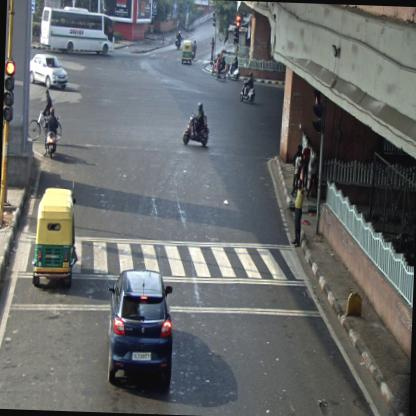bus: (40, 6, 116, 56)
car: (104, 268, 175, 388), (30, 52, 70, 92)
motorcycle: (29, 91, 62, 142), (184, 102, 209, 148), (43, 108, 58, 159), (239, 72, 256, 104), (214, 54, 228, 82), (228, 56, 241, 79), (192, 38, 198, 60)
